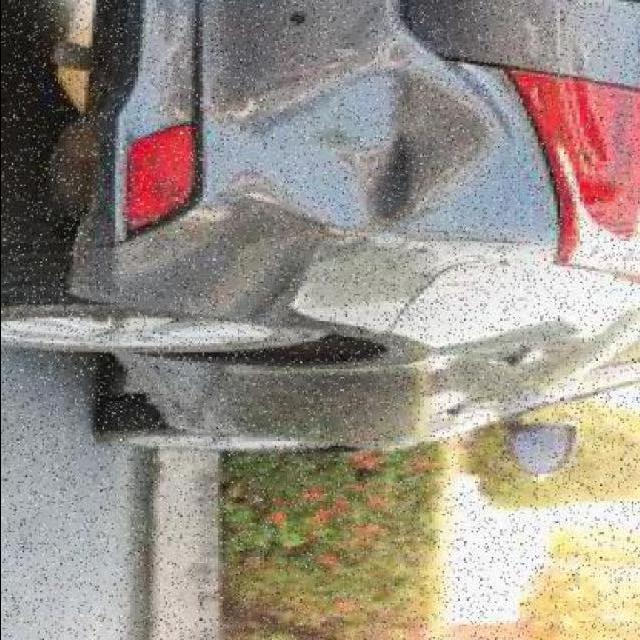rear-bumper-dent: (73, 0, 557, 303)
